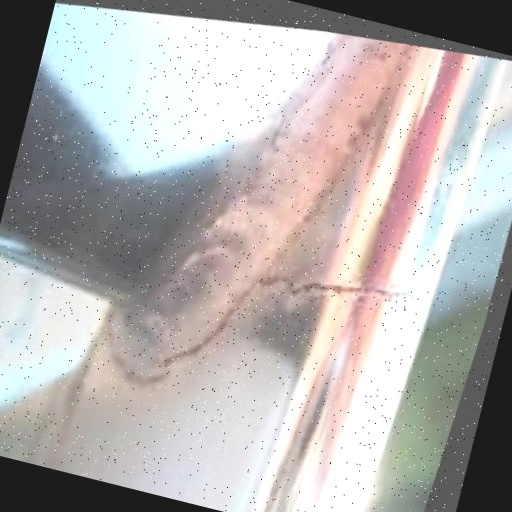crack: (248, 236, 437, 343)
